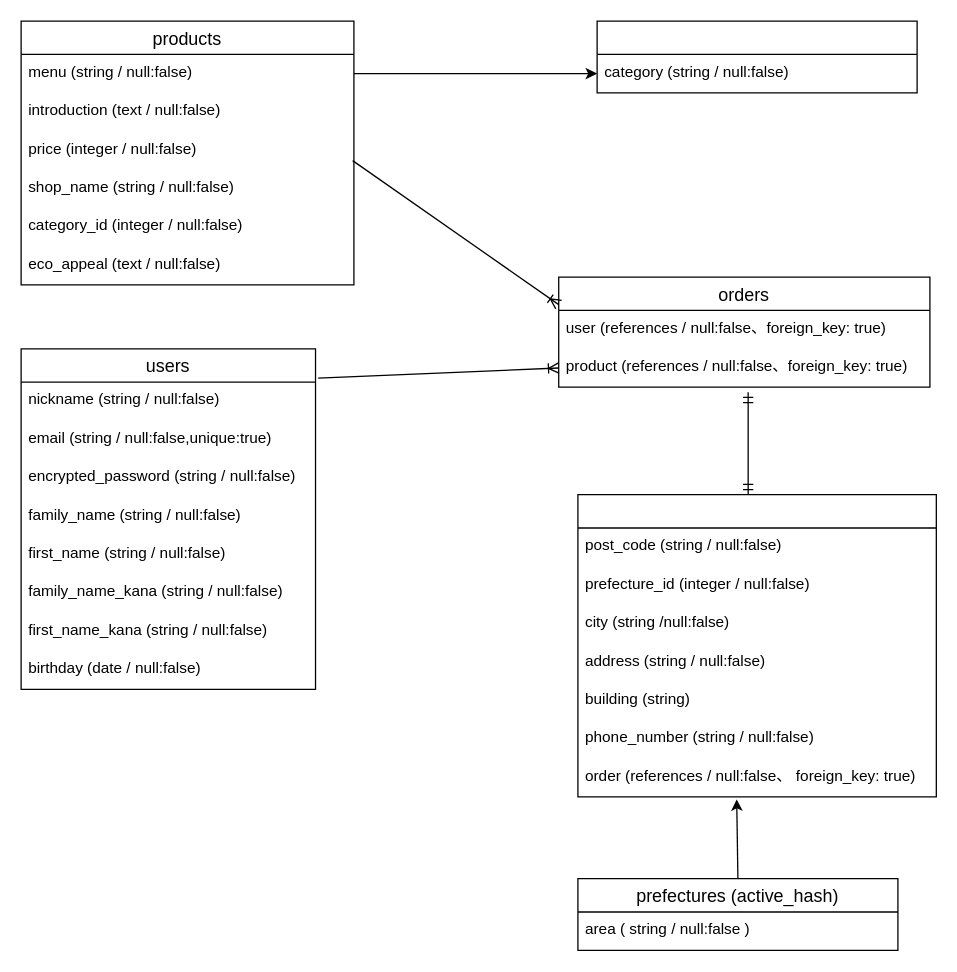
This 957x972 diagram has some shape labels left out. Each missing label, with the box of its shape:
categories (active_hash): (596, 20, 917, 93)
destinations: (577, 493, 936, 797)
